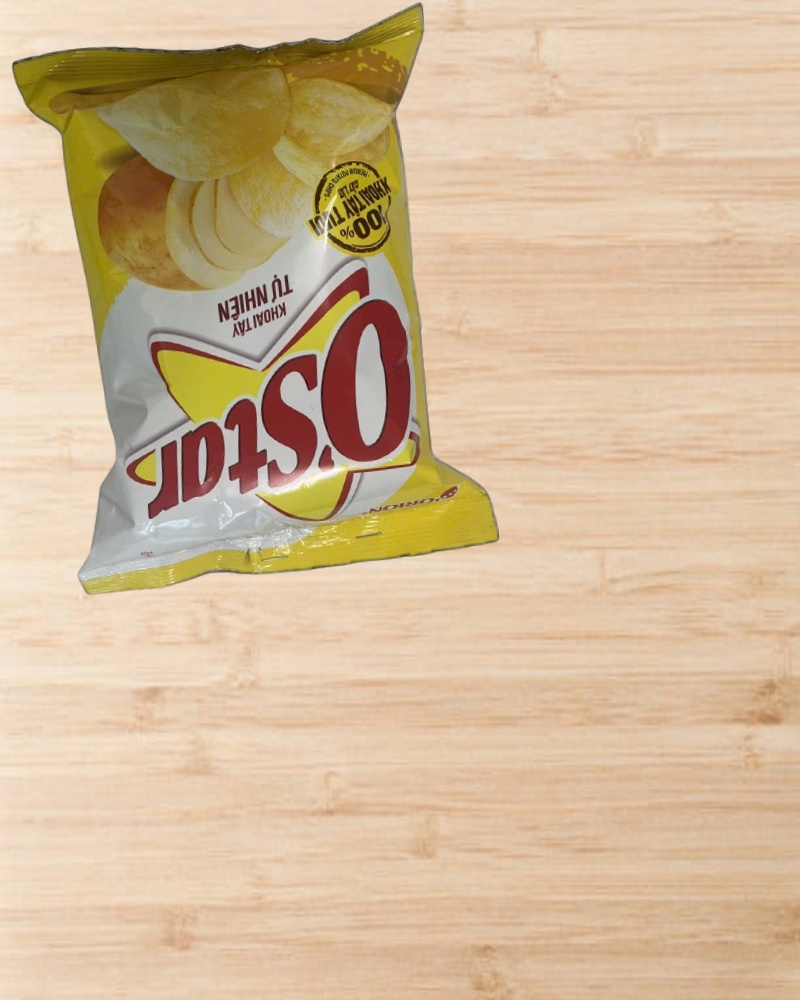Snack cua: (16, 7, 499, 591)
